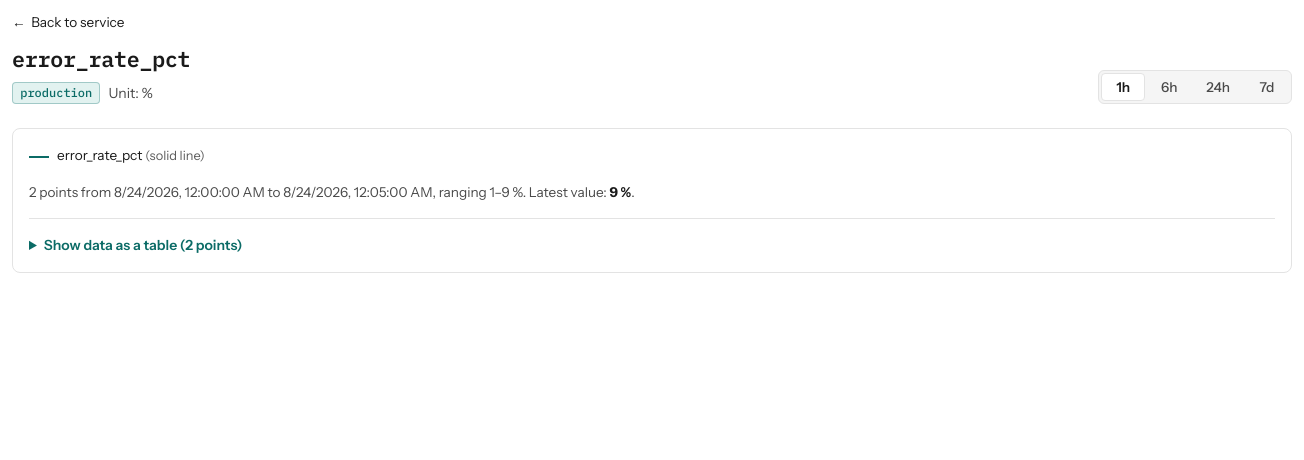
MetricChart › keeps the accessible points table collapsed until opened, then shows the same series as a real table
Click the heading "Show data as a table (2 points)" at (143, 245), box [44,236,242,254]
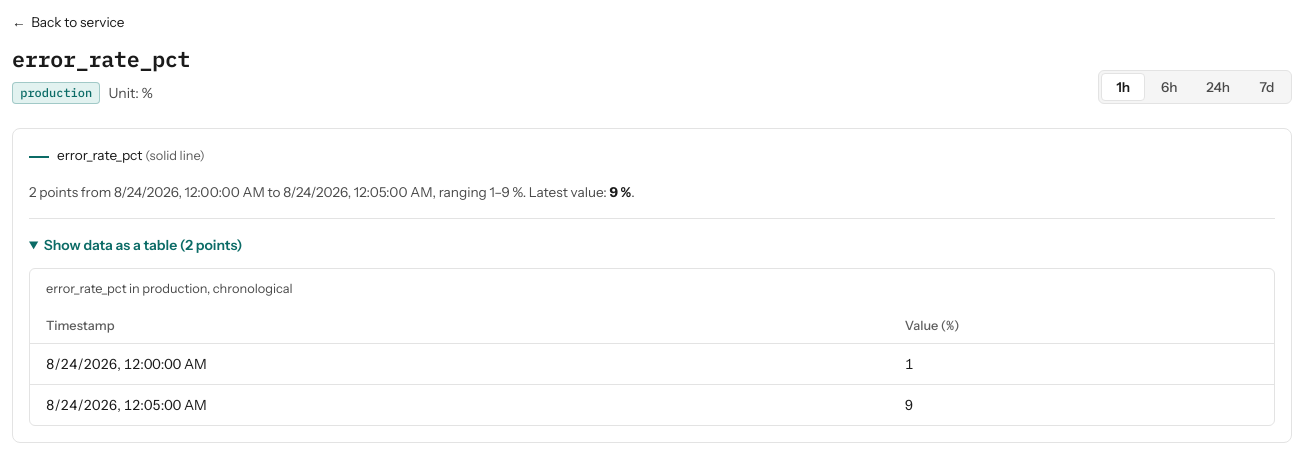
Now the number of rows is 3, box [30,308,1274,344]; [30,344,1274,385]; [30,385,1274,425]
Now the cell "1" is shown, box [889,344,1274,385]
Now the cell "9" is shown, box [889,385,1274,425]
